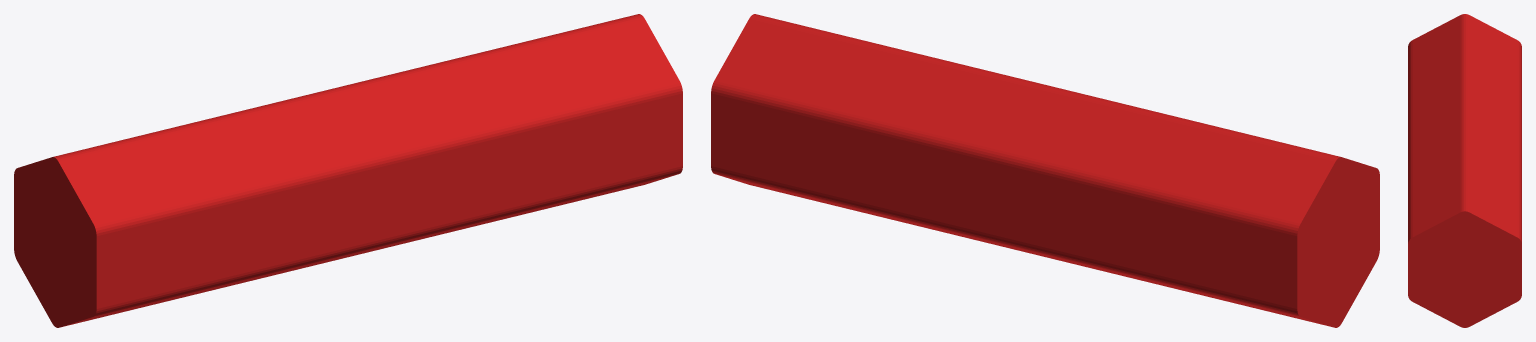
Rendered from peg_53_canonical_colored.obj.
3 renders of one model, left to right at view 1: azimuth 30°, elevation 25°; view 2: azimuth 150°, elevation 25°; view 3: azimuth 270°, elevation 25°, orthographic. The views are drawn at different scales.
Size of the model in its own units: 0.15 by 0.0413 by 0.0366.
